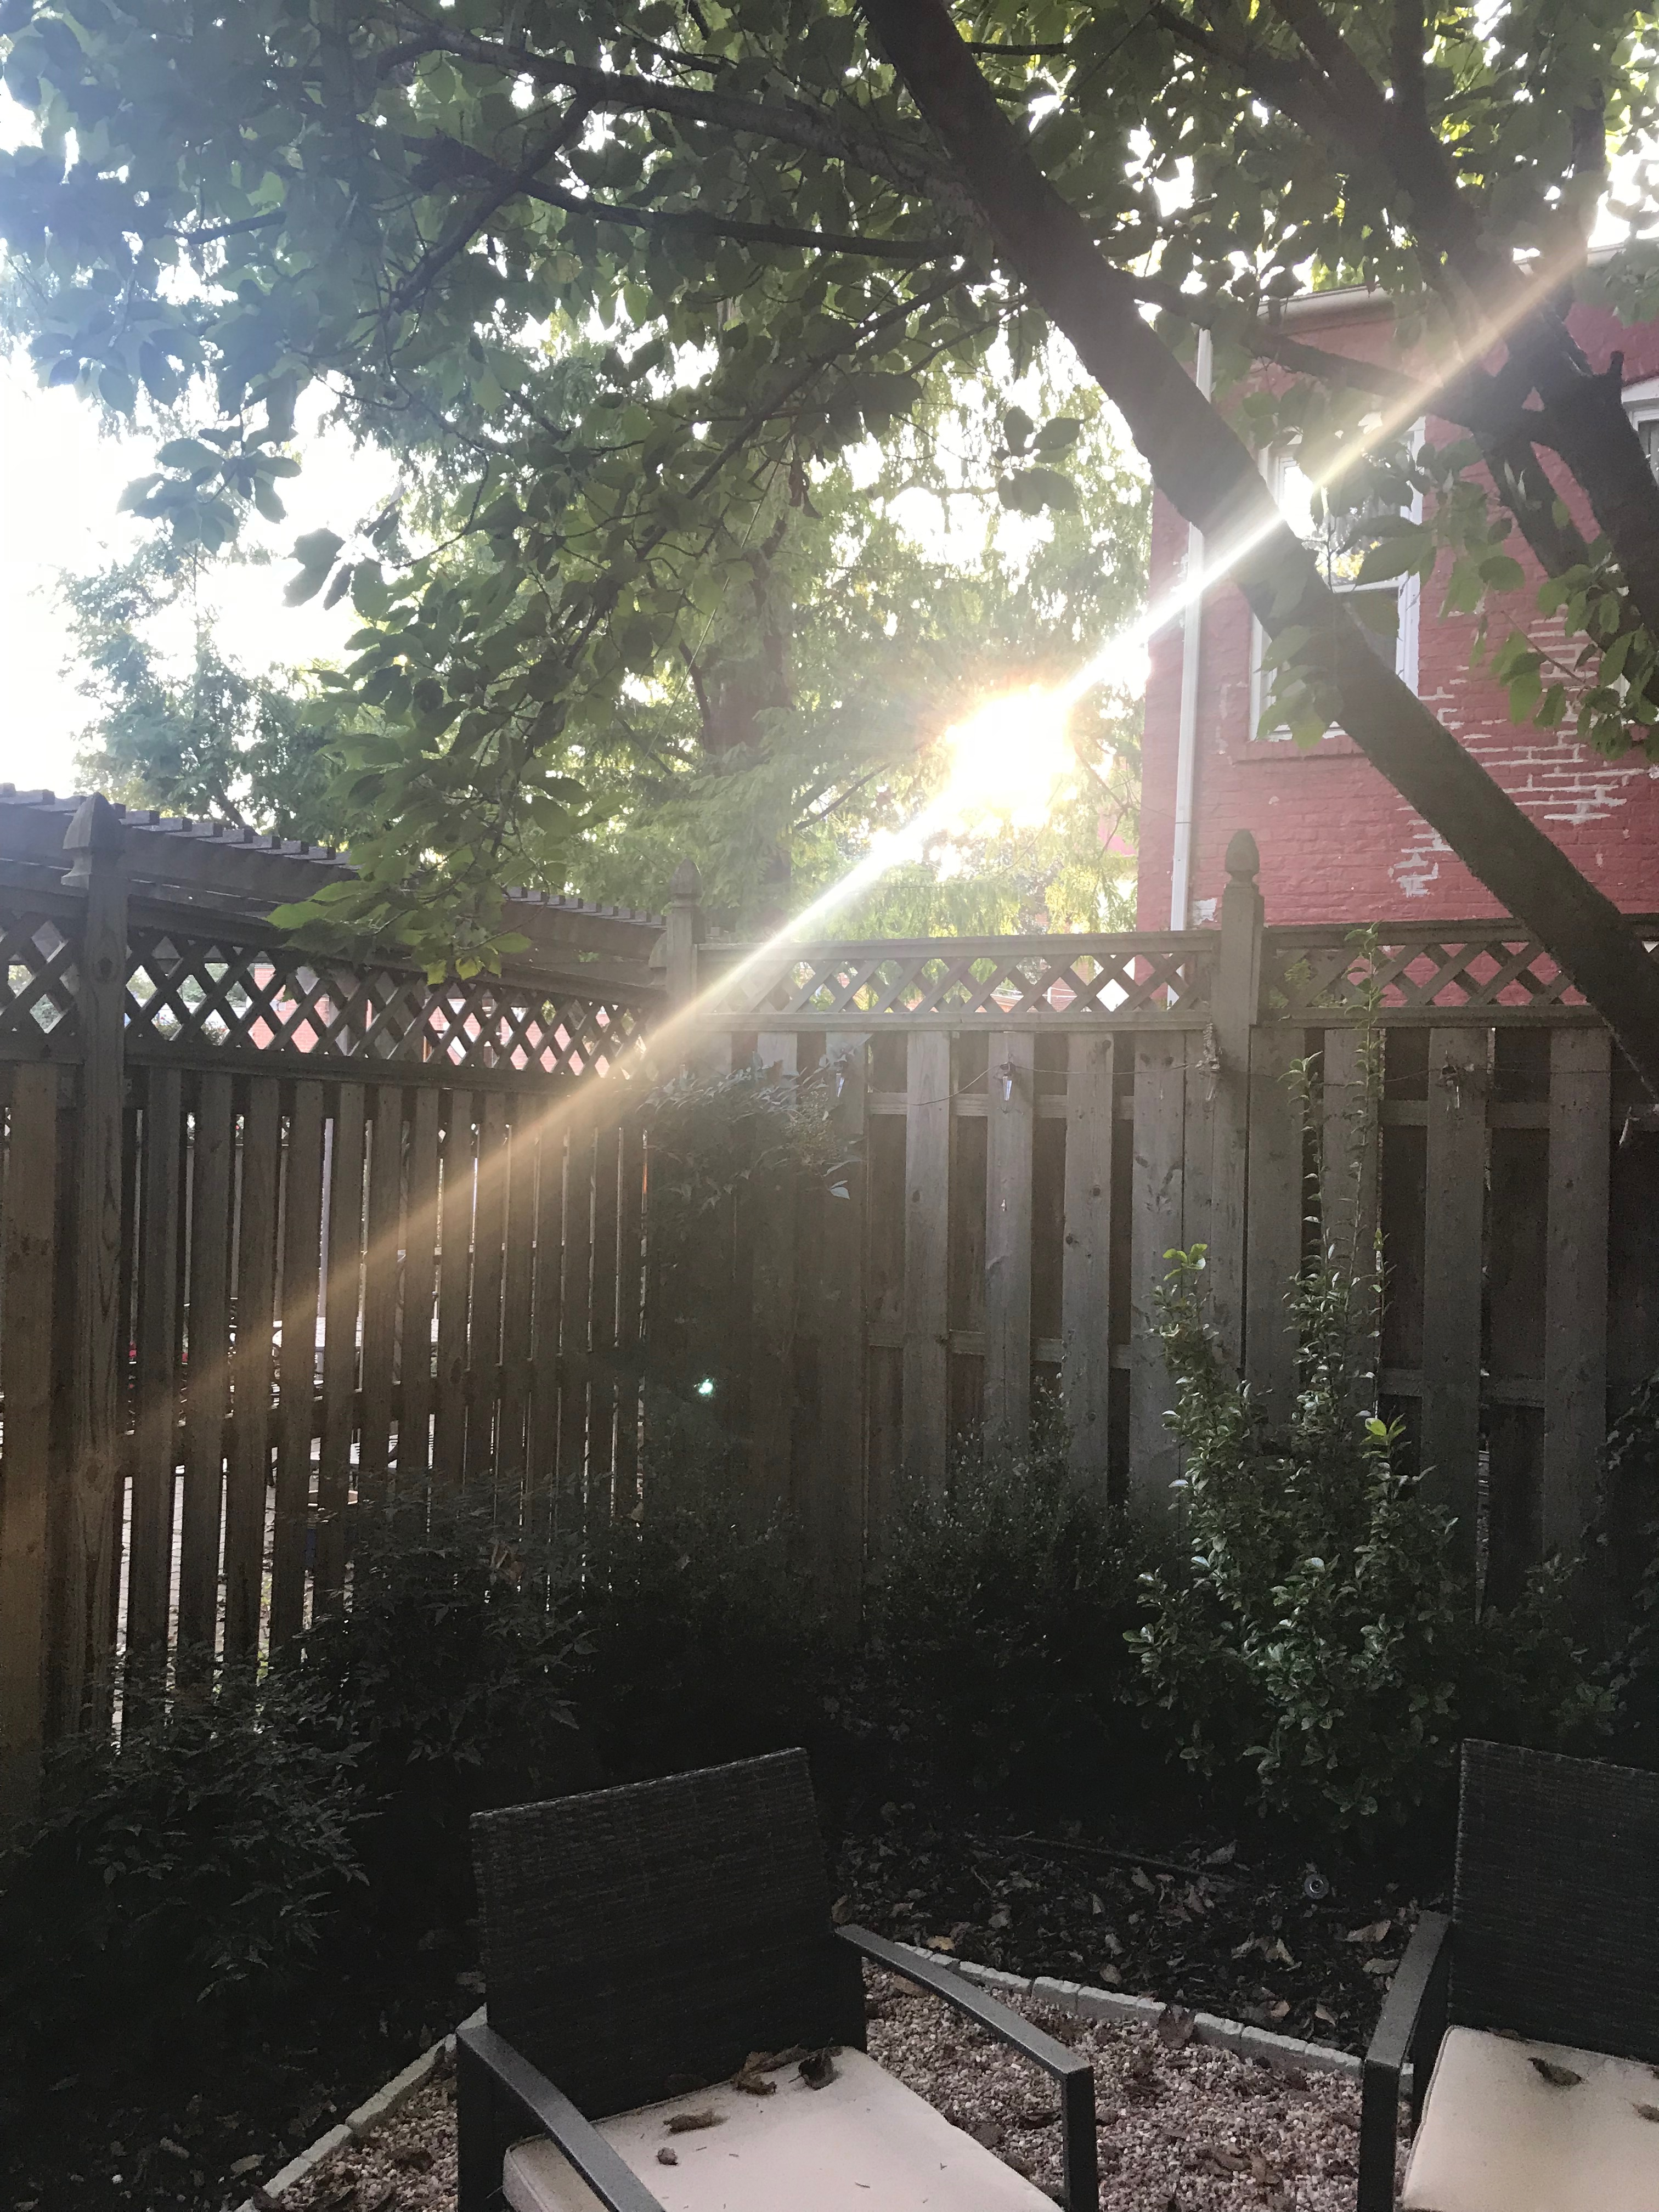flare: (697, 1378, 716, 1397)
